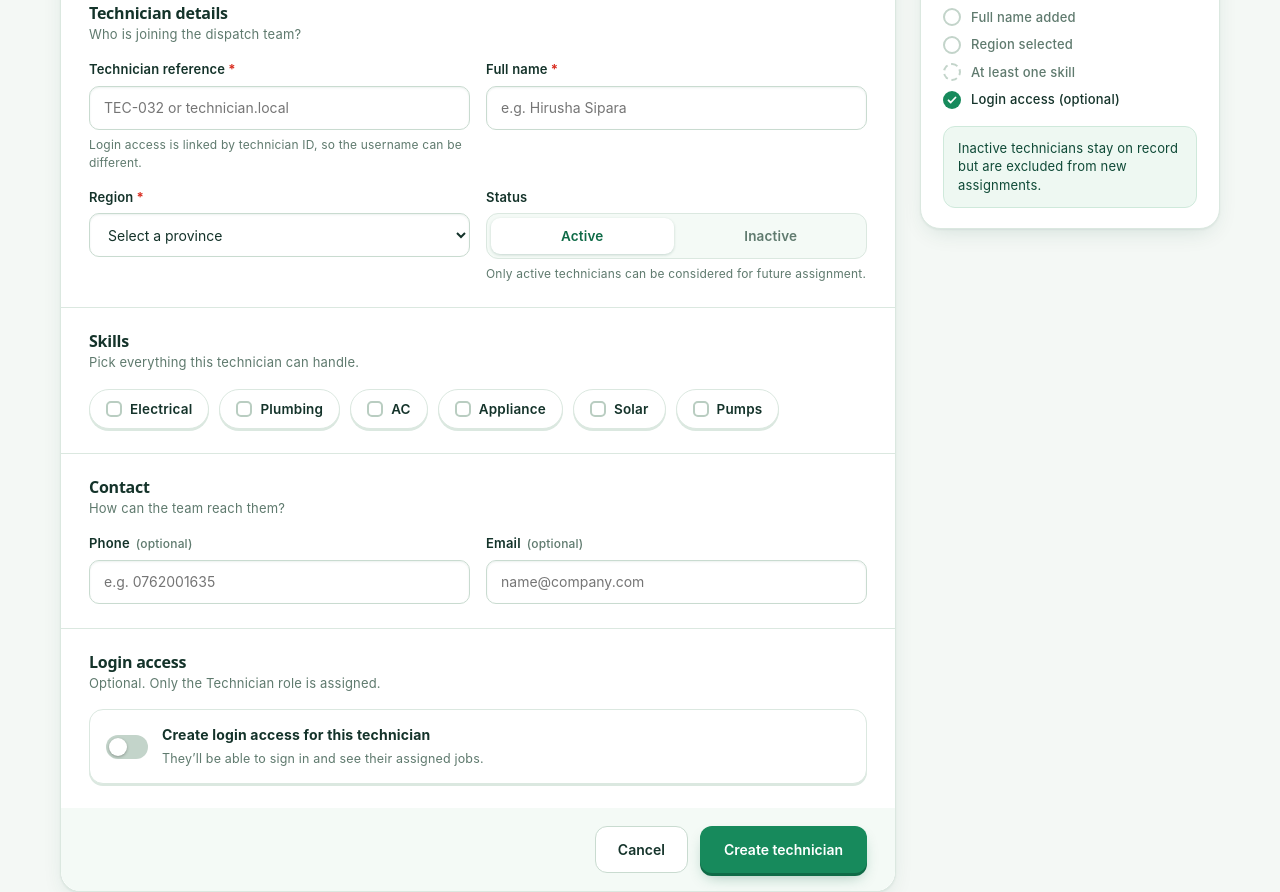
Test: TechnicianForm › rejects mismatched passwords before creating any record
(page scrolled)
Click the checkbox labelled "Create login access for this technician": (127, 747) [89, 709, 867, 784]
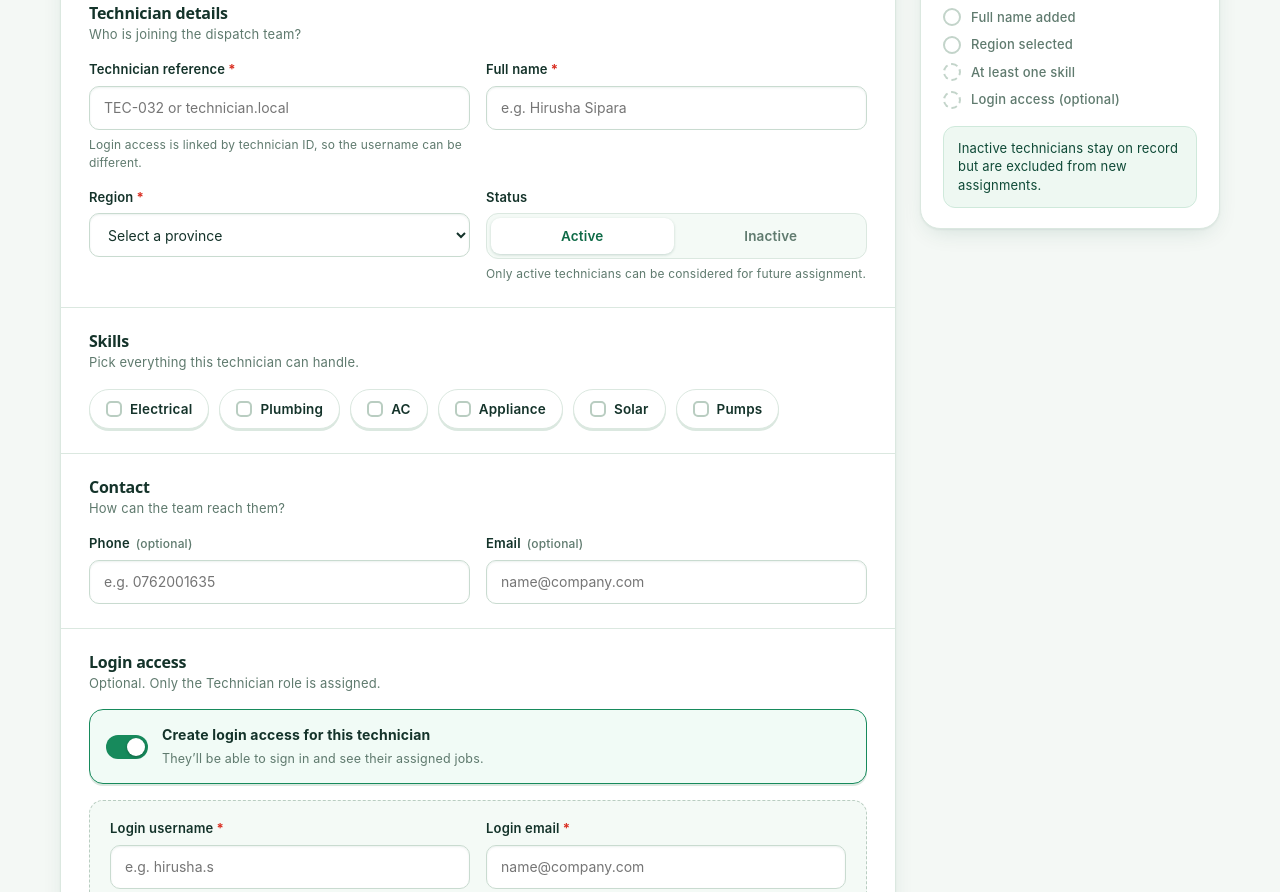
In the field labelled "Login username": (290, 867) [110, 845, 470, 889], type "separate.login"
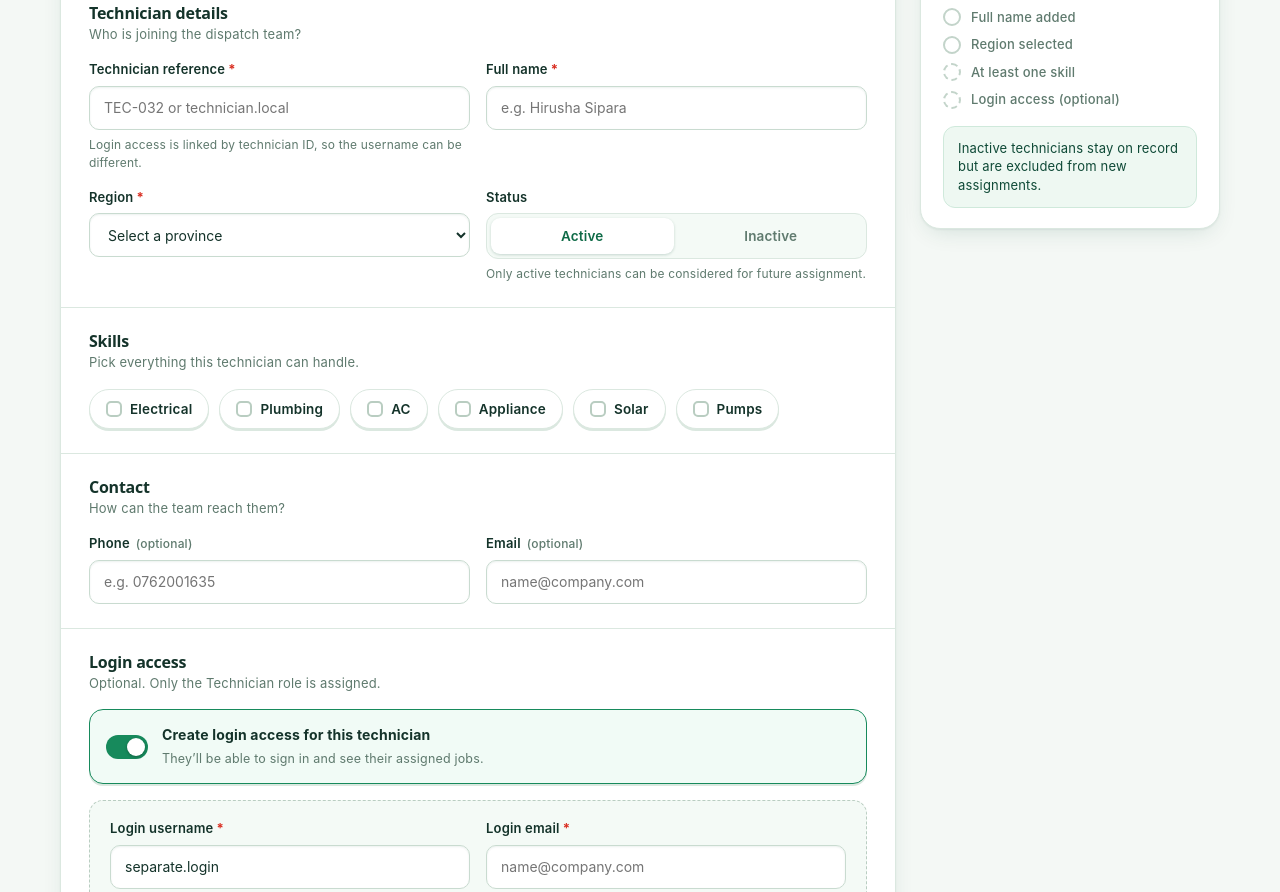
In the field labelled "Login email": (666, 867) [486, 845, 846, 889], type "t@example.com"
(page scrolled)
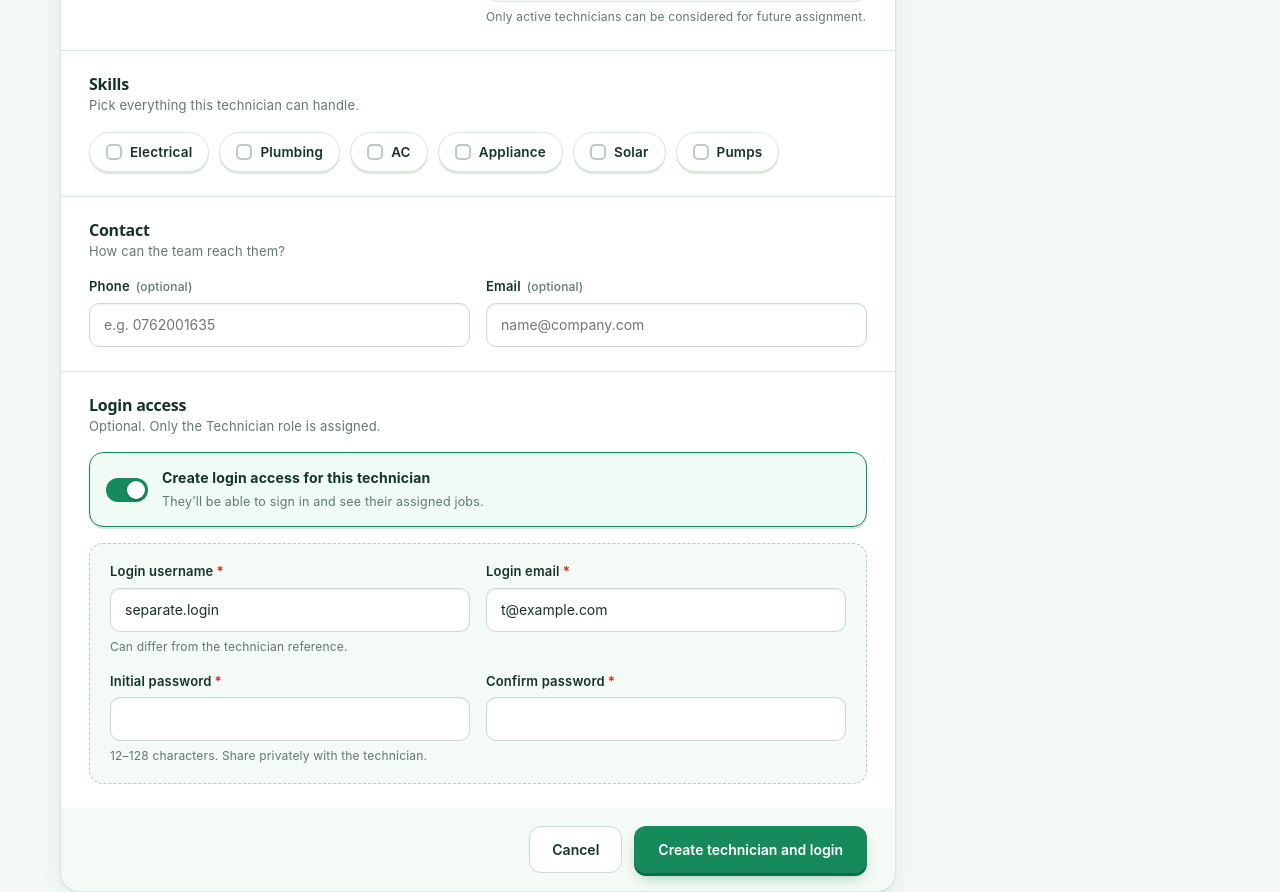
In the password field labelled "Initial password": (290, 719) [110, 697, 470, 741], type "ExamplePassword42!"
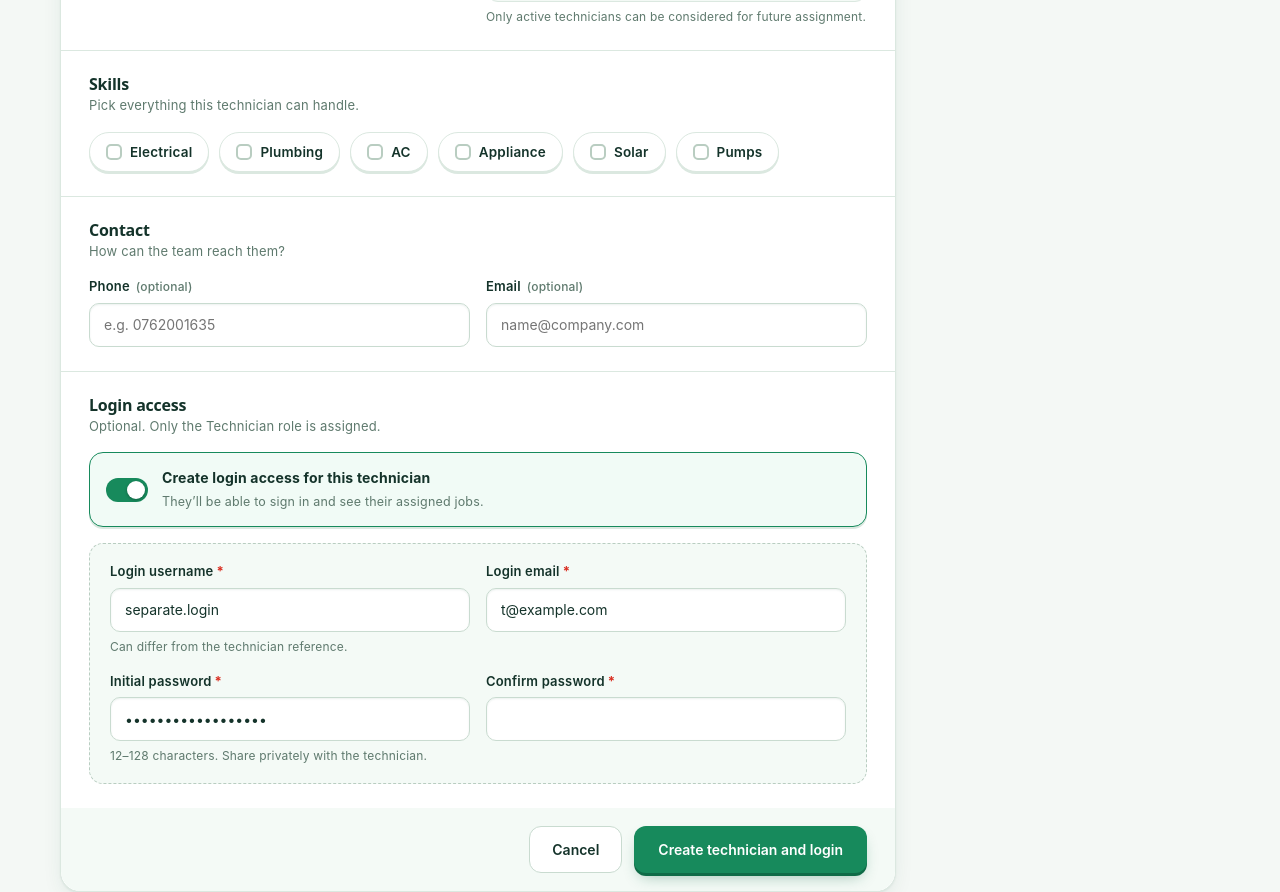
In the password field labelled "Confirm password": (666, 719) [486, 697, 846, 741], type "DifferentPassword42!"
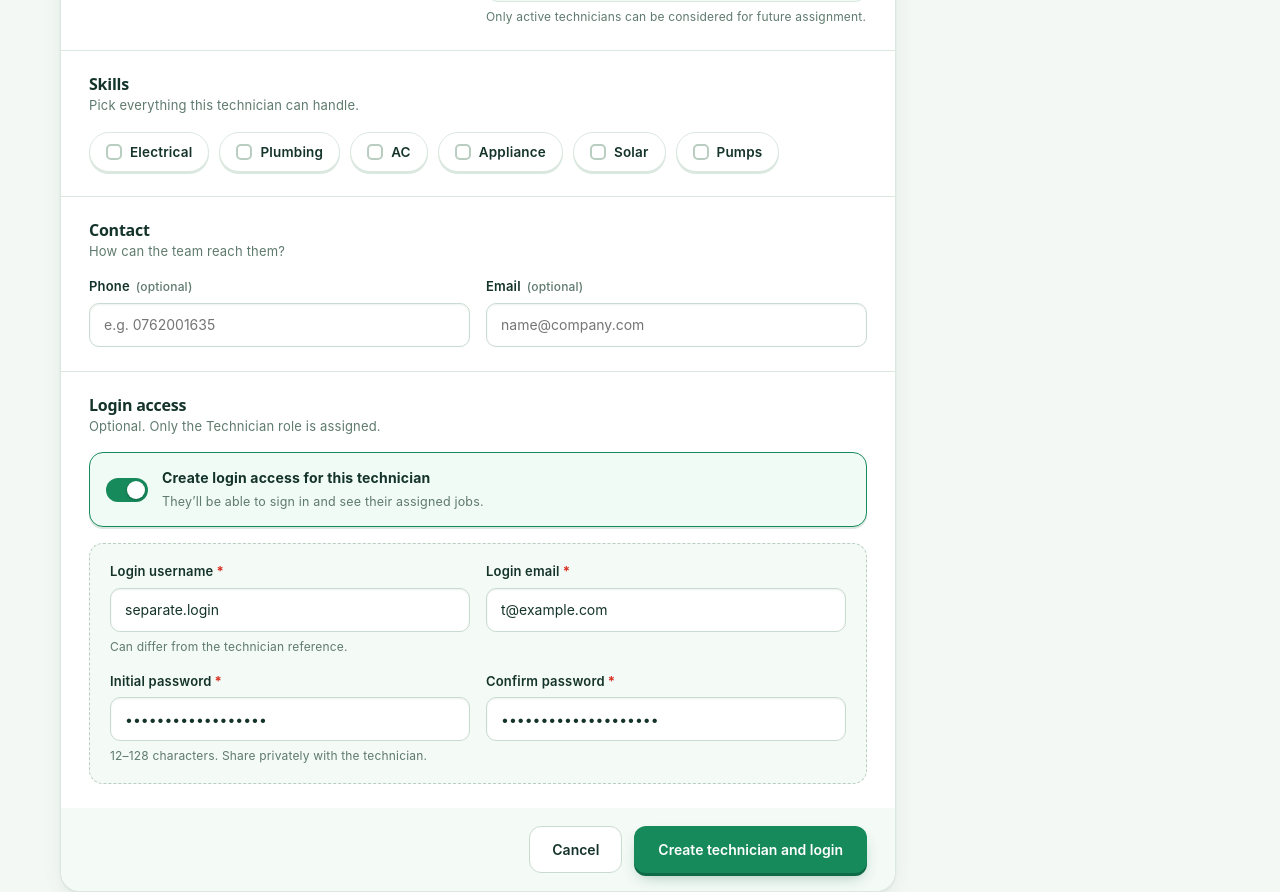
Click the button "Create technician and login": (751, 850) [634, 826, 867, 873]
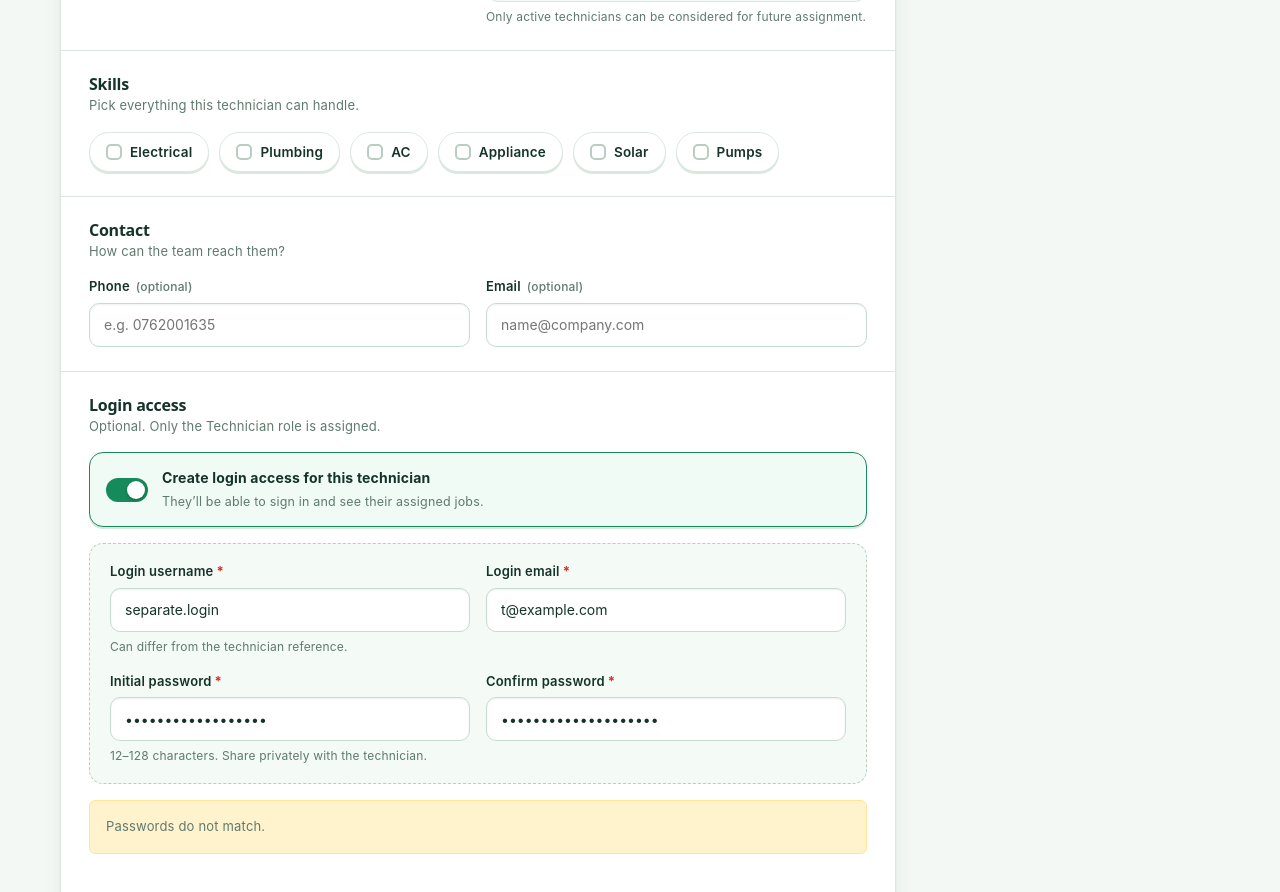
Check: the message shows "Passwords do not match", box [106, 818, 265, 834]
